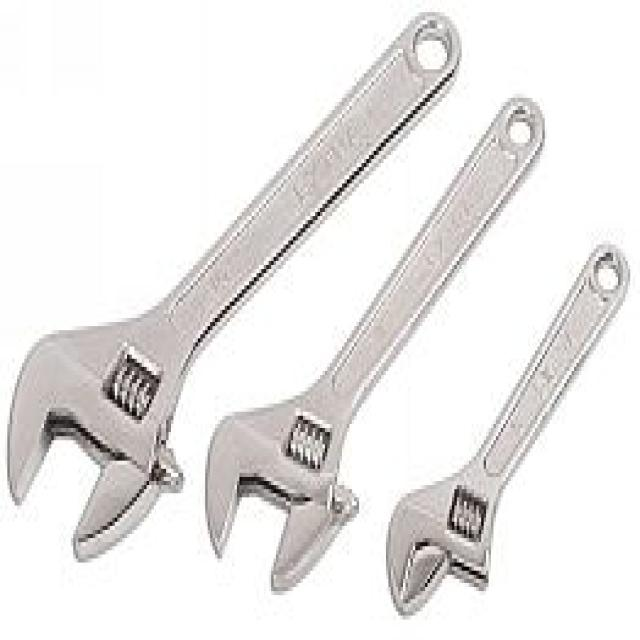wrench: (0, 190, 196, 597), (375, 343, 640, 626)
